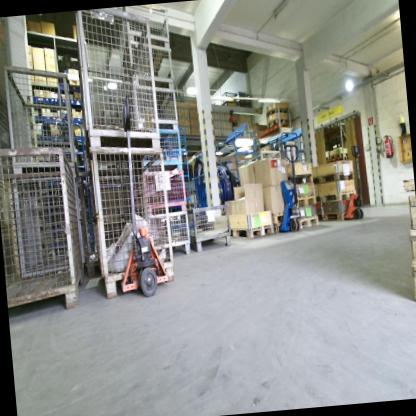pallet: (227, 220, 276, 240), (311, 170, 355, 188), (315, 189, 356, 205), (317, 211, 359, 225), (294, 214, 320, 232), (287, 172, 314, 187), (267, 116, 293, 131), (264, 105, 293, 117), (292, 194, 316, 208), (272, 222, 296, 235), (268, 209, 289, 221)
pallet_truck: (100, 89, 172, 301), (318, 141, 368, 222), (269, 141, 307, 236)
stillage: (81, 140, 178, 301), (0, 140, 87, 318), (70, 5, 163, 154), (3, 55, 80, 178), (10, 169, 89, 279), (115, 3, 172, 68), (118, 39, 175, 92), (143, 210, 195, 261), (185, 203, 233, 258), (131, 82, 181, 132), (138, 125, 185, 173), (140, 170, 189, 215)
